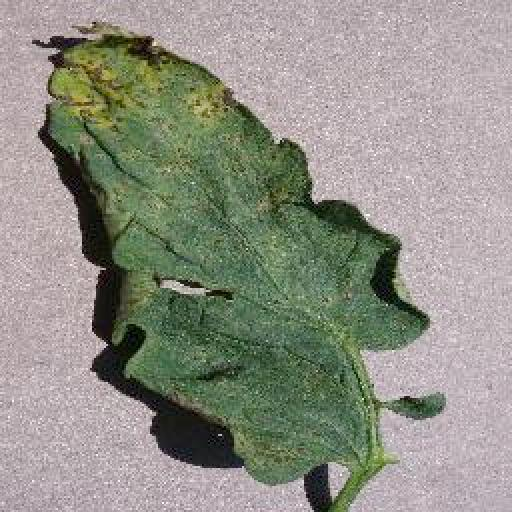disease_tomato: (44, 20, 446, 484)
